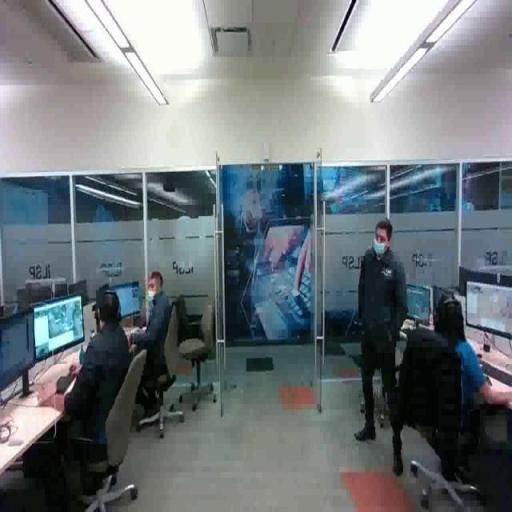person: (42, 284, 135, 489), (424, 292, 512, 480), (356, 216, 409, 478), (121, 270, 176, 421)
